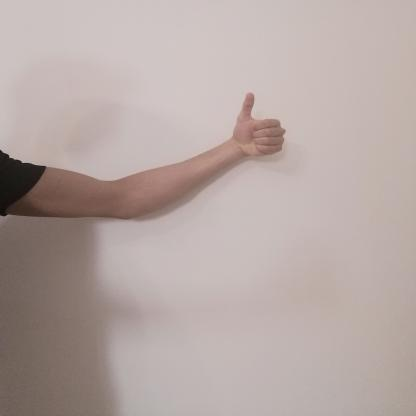ALIF: (221, 84, 295, 164)
